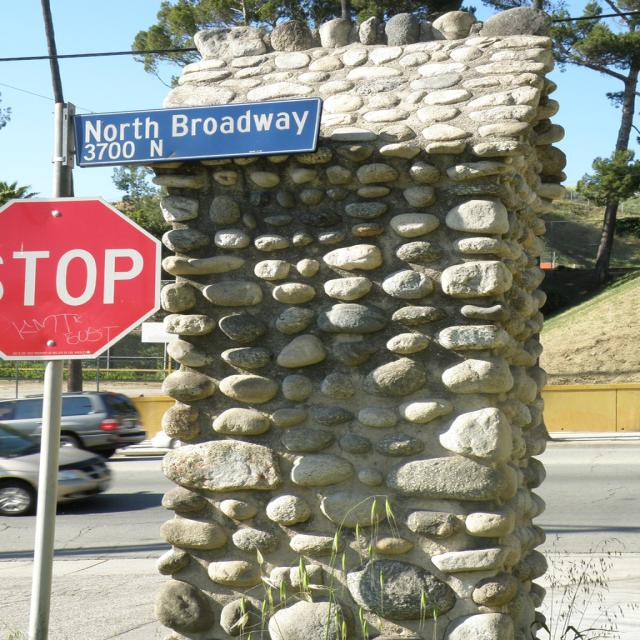Stop-sign: (0, 197, 164, 362)
